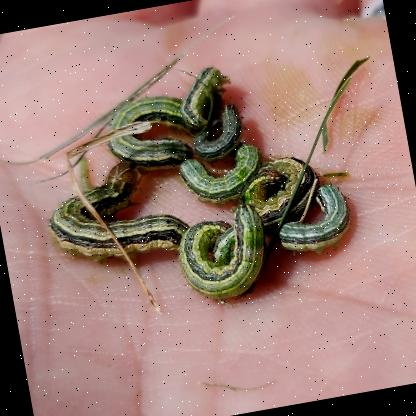Fall Armyworm Larvae: (33, 146, 205, 284), (162, 194, 284, 318), (93, 80, 212, 181), (229, 142, 333, 240), (266, 172, 367, 265), (171, 133, 276, 217), (170, 60, 244, 138), (183, 96, 256, 172)
